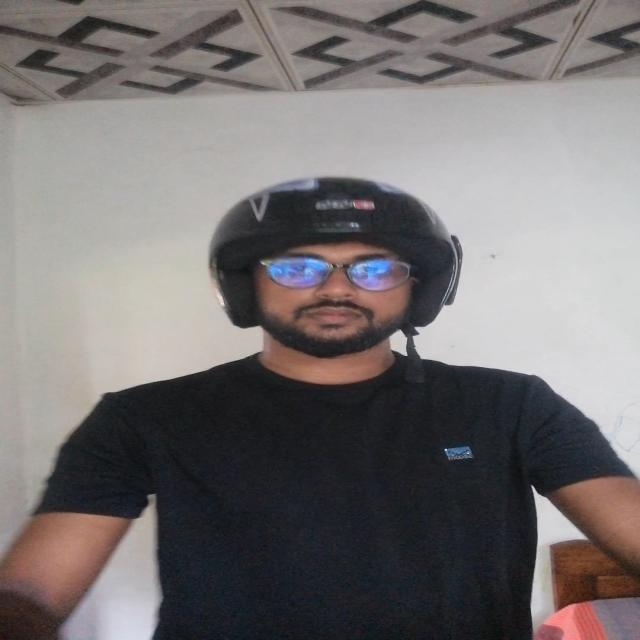Helmet_Wearer: (147, 174, 490, 417)
Person: (28, 173, 640, 640)
